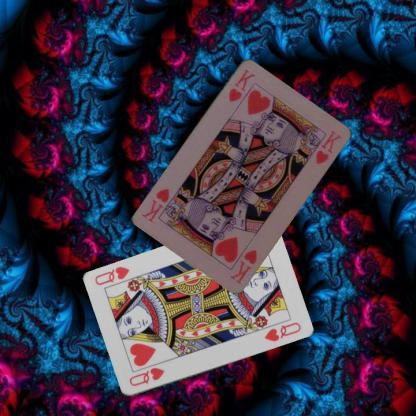Kh: (227, 246, 258, 285), (226, 66, 256, 103)
Qh: (126, 365, 166, 388)
